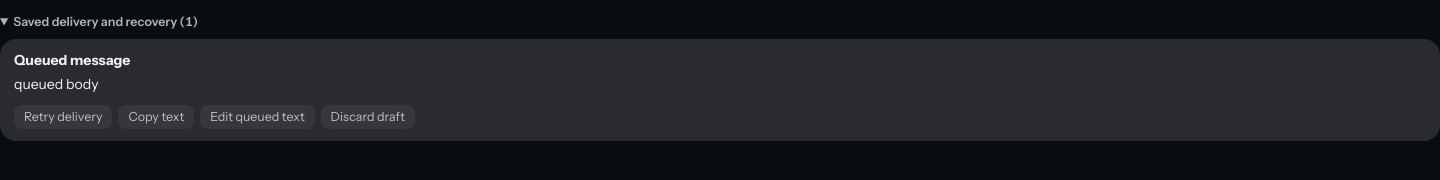
Test case: MessagingQueuePanel › keeps the action error visible when a queue action fails
Click the button "Retry delivery" at (63, 117), box [14,105,112,129]
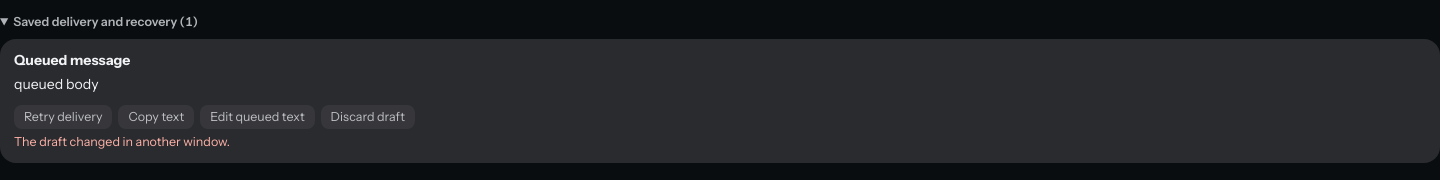
Expected: the message reads "The draft changed in another window.", [14,134,230,149]
